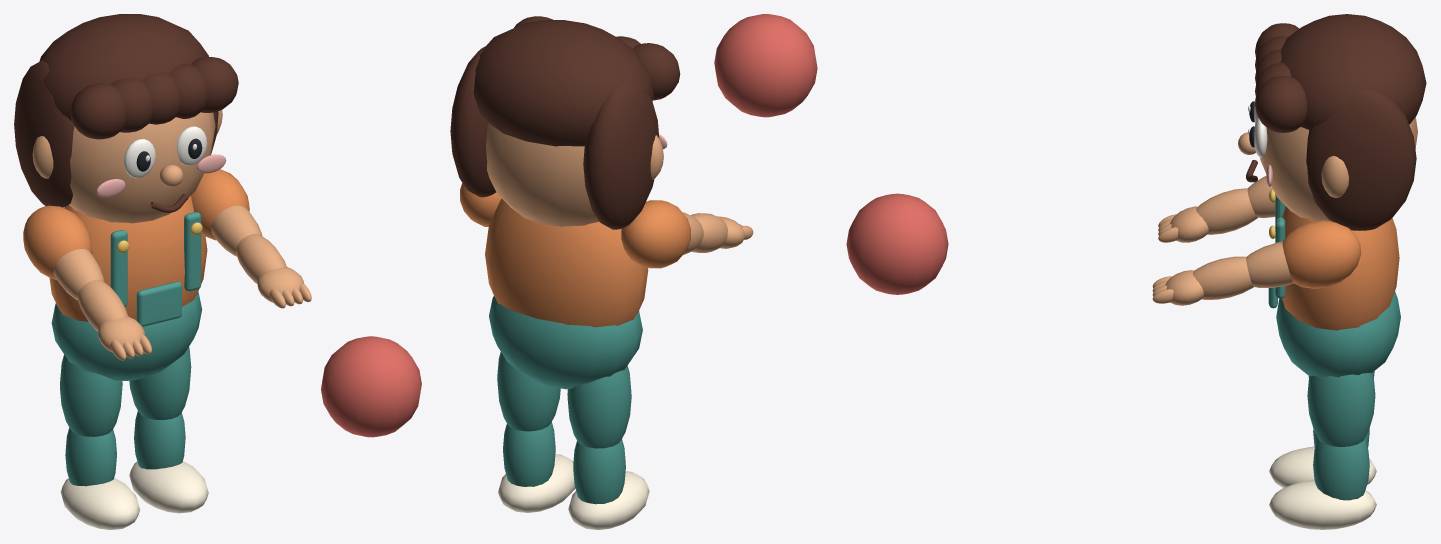
The model's file is ava-catch.glb.
The picture shows the model from 3 angles, left to right: view 1: azimuth 30°, elevation 25°; view 2: azimuth 150°, elevation 25°; view 3: azimuth 270°, elevation 25°; orthographic projection. The views are drawn at different scales.
Visible parts, largest first — view 1: hair cap, clay head, soft ball, soft shirt, overalls, bob hair, trouser leg, shirt sleeve, little shoe.001, little shoe, trouser leg.001, fringe (+19 smaller); view 2: hair cap, soft shirt, soft ball, overalls, bob hair, clay head, trouser leg, bob hair.001, shirt sleeve, trouser leg.001, lower leg, lower leg.001 (+8 smaller); view 3: bob hair.001, hair cap, soft ball, soft shirt, overalls, trouser leg.001, shirt sleeve.001, clay head, little shoe.001, lower leg.001, fringe.004, forearm.001 (+7 smaller).
Part boxes in pixels (left/top/right/bottom): hair cap: left=39, top=14, right=208, bottom=120; clay head: left=69, top=112, right=215, bottom=223; soft ball: left=321, top=336, right=421, bottom=437; soft shirt: left=49, top=196, right=207, bottom=321; overalls: left=51, top=291, right=202, bottom=380; bob hair: left=14, top=60, right=74, bottom=207; trouser leg: left=60, top=354, right=122, bottom=436; shirt sleeve: left=23, top=205, right=92, bottom=280; little shoe.001: left=129, top=461, right=208, bottom=513; little shoe: left=60, top=478, right=139, bottom=529; trouser leg.001: left=129, top=347, right=191, bottom=419; fringe: left=70, top=83, right=125, bottom=139; hair cap: left=473, top=20, right=653, bottom=146; soft shirt: left=485, top=198, right=648, bottom=327; soft ball: left=714, top=14, right=817, bottom=117; overalls: left=489, top=296, right=642, bottom=389; bob hair: left=583, top=81, right=659, bottom=229; clay head: left=486, top=123, right=598, bottom=226; trouser leg: left=567, top=366, right=631, bottom=448; bob hair.001: left=450, top=46, right=496, bottom=197; shirt sleeve: left=621, top=200, right=690, bottom=268; trouser leg.001: left=497, top=352, right=560, bottom=431; lower leg: left=573, top=439, right=625, bottom=504; lower leg.001: left=503, top=422, right=555, bottom=486; bob hair.001: left=1306, top=89, right=1416, bottom=230; hair cap: left=1281, top=14, right=1426, bottom=130; soft ball: left=846, top=193, right=948, bottom=294; soft shirt: left=1282, top=206, right=1399, bottom=330; overalls: left=1276, top=291, right=1400, bottom=377; trouser leg.001: left=1307, top=373, right=1375, bottom=446; shirt sleeve.001: left=1282, top=220, right=1361, bottom=288; clay head: left=1260, top=117, right=1417, bottom=221; little shoe.001: left=1269, top=480, right=1376, bottom=529; lower leg.001: left=1313, top=438, right=1369, bottom=500; fringe.004: left=1255, top=76, right=1307, bottom=132; forearm.001: left=1193, top=256, right=1253, bottom=299.
Size of the model in its own units: 0.87 by 1.87 by 2.04.
